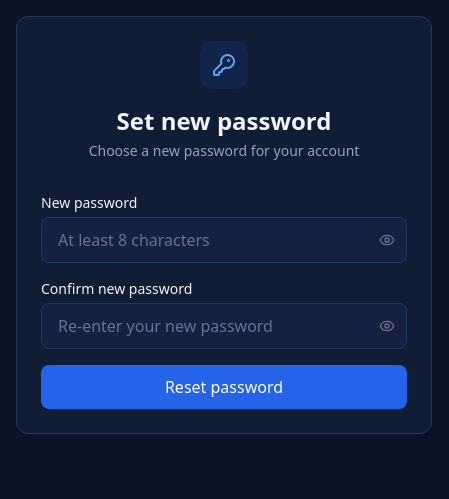
ResetPasswordPage - client-side validation › blocks submit and shows the required error on an empty form
This screenshot has width=449, height=499.
Click the button "Reset password".
click(224, 387)  # box [41,365,407,409]
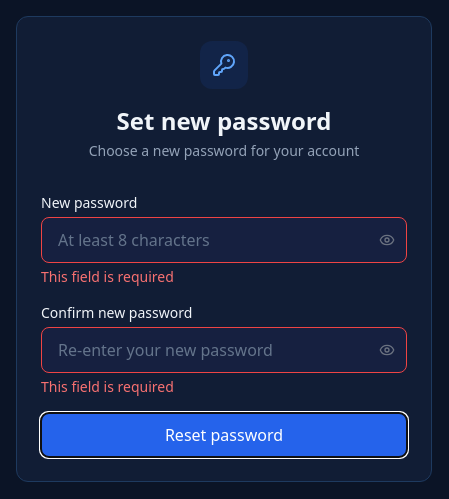
Check: the 1st text "This field is required" is shown, box [41,267,174,286]
